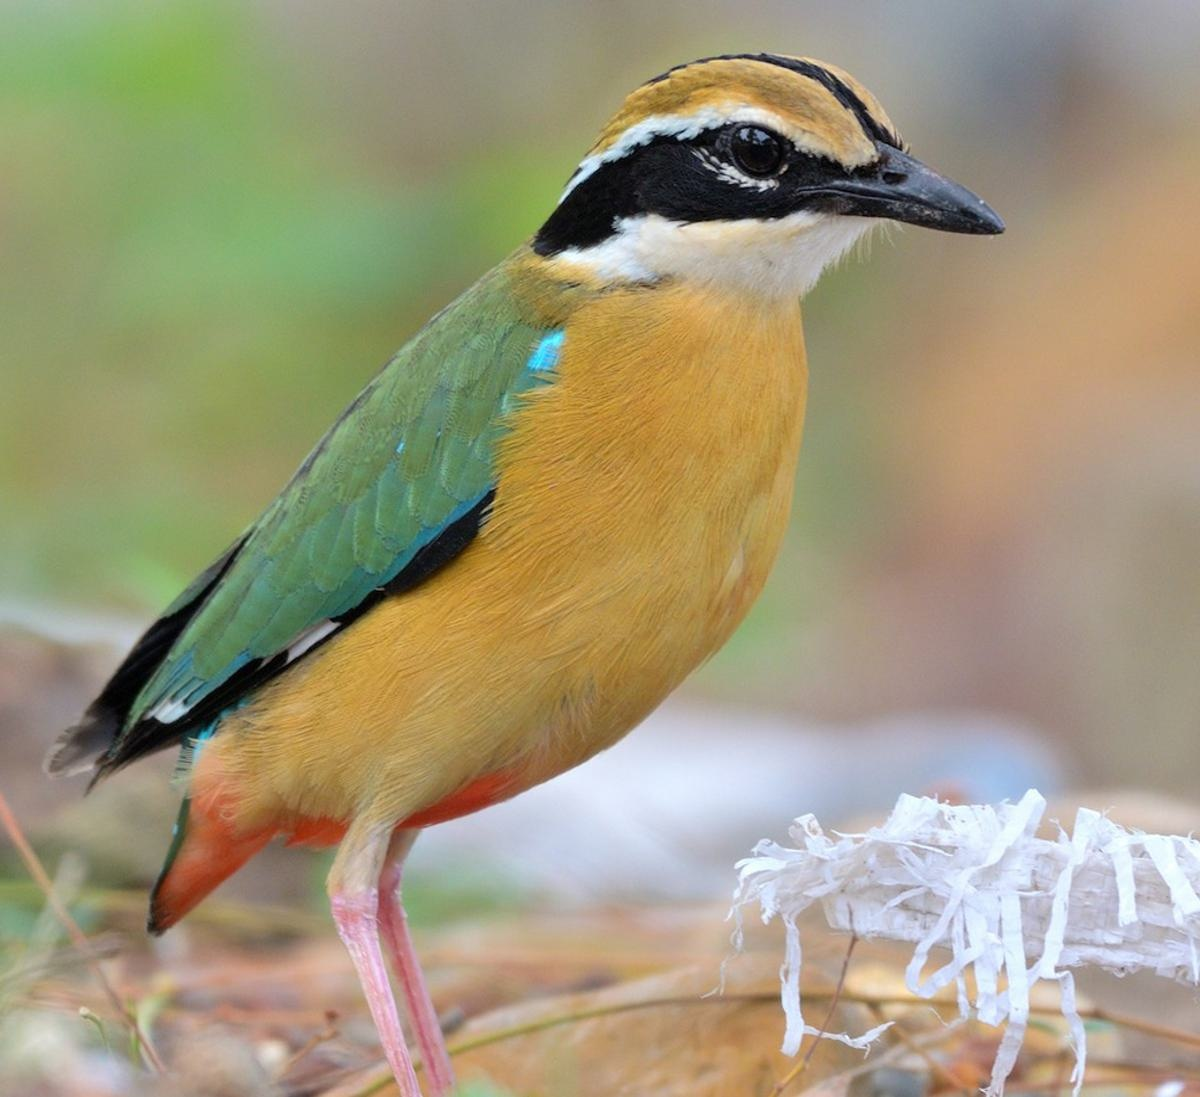pitta: (139, 56, 1025, 1013)
